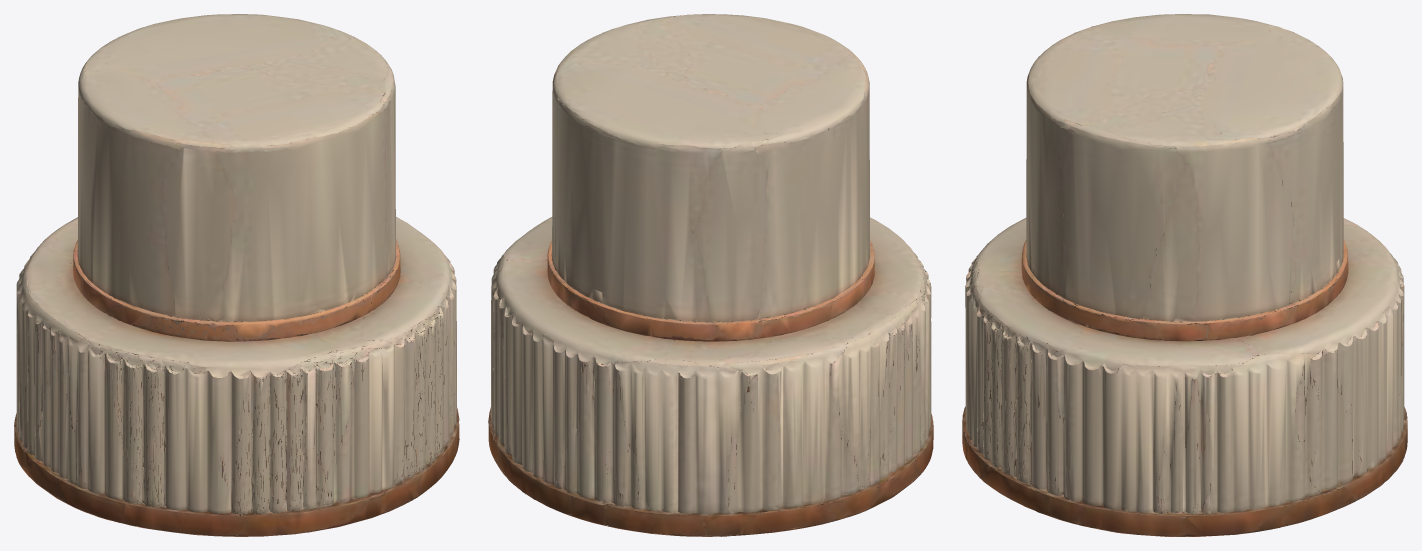
File: assembly-10-blank-two-tier-core.glb
3 views of the same model, side by side, from view 1: azimuth 30°, elevation 25°; view 2: azimuth 150°, elevation 25°; view 3: azimuth 270°, elevation 25° (orthographic).
Visible parts, largest first — view 1: assembly-10; view 2: assembly-10; view 3: assembly-10.
Boxes of the visible parts, x1,y1,x2,y2 form: assembly-10: (14,14,459,536); assembly-10: (488,14,933,536); assembly-10: (962,14,1407,536).
Size of the model in its own units: 2 by 1.82 by 2.
Materials: 1 (1 with a texture image).
